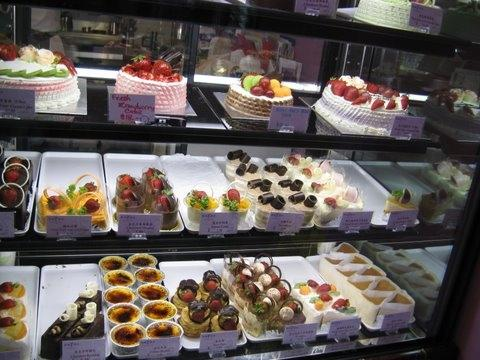grape: (244, 76, 255, 92), (250, 86, 265, 96), (259, 78, 270, 90), (268, 79, 280, 89), (272, 87, 284, 96), (266, 90, 274, 99)
kiwi: (244, 76, 255, 92), (22, 70, 42, 78), (7, 68, 26, 76), (55, 68, 70, 78), (345, 307, 356, 313), (309, 296, 319, 302), (328, 291, 340, 296), (300, 282, 306, 286)
strawberry: (0, 38, 17, 62), (156, 188, 174, 209), (151, 60, 173, 77), (132, 54, 152, 72), (330, 78, 348, 97), (46, 195, 66, 210), (84, 198, 100, 214), (343, 86, 359, 102), (2, 187, 17, 204), (150, 175, 163, 194), (59, 60, 74, 76), (351, 93, 370, 105), (0, 298, 17, 310), (332, 298, 350, 309), (228, 188, 240, 204), (5, 170, 21, 182), (50, 50, 63, 64), (0, 317, 16, 328), (192, 308, 204, 322), (268, 272, 280, 286), (244, 284, 256, 298), (122, 189, 136, 201), (208, 300, 222, 311), (316, 284, 330, 295), (124, 66, 139, 76), (380, 88, 394, 98), (223, 320, 237, 330), (170, 72, 184, 82), (154, 74, 171, 82), (367, 82, 379, 93), (311, 182, 323, 193), (401, 95, 409, 110), (372, 100, 384, 110), (260, 262, 270, 274), (85, 182, 97, 192), (278, 288, 288, 299), (326, 76, 337, 86), (206, 280, 216, 291), (374, 84, 386, 93), (318, 294, 332, 301), (306, 280, 318, 288), (194, 191, 207, 198), (184, 292, 194, 301), (386, 100, 396, 109), (288, 157, 299, 165), (236, 274, 247, 282), (11, 156, 22, 164), (144, 73, 155, 80), (263, 302, 270, 313), (324, 198, 336, 204), (139, 70, 149, 77), (303, 168, 311, 176), (289, 304, 297, 312), (146, 168, 154, 176), (330, 203, 337, 209), (393, 90, 398, 97)
